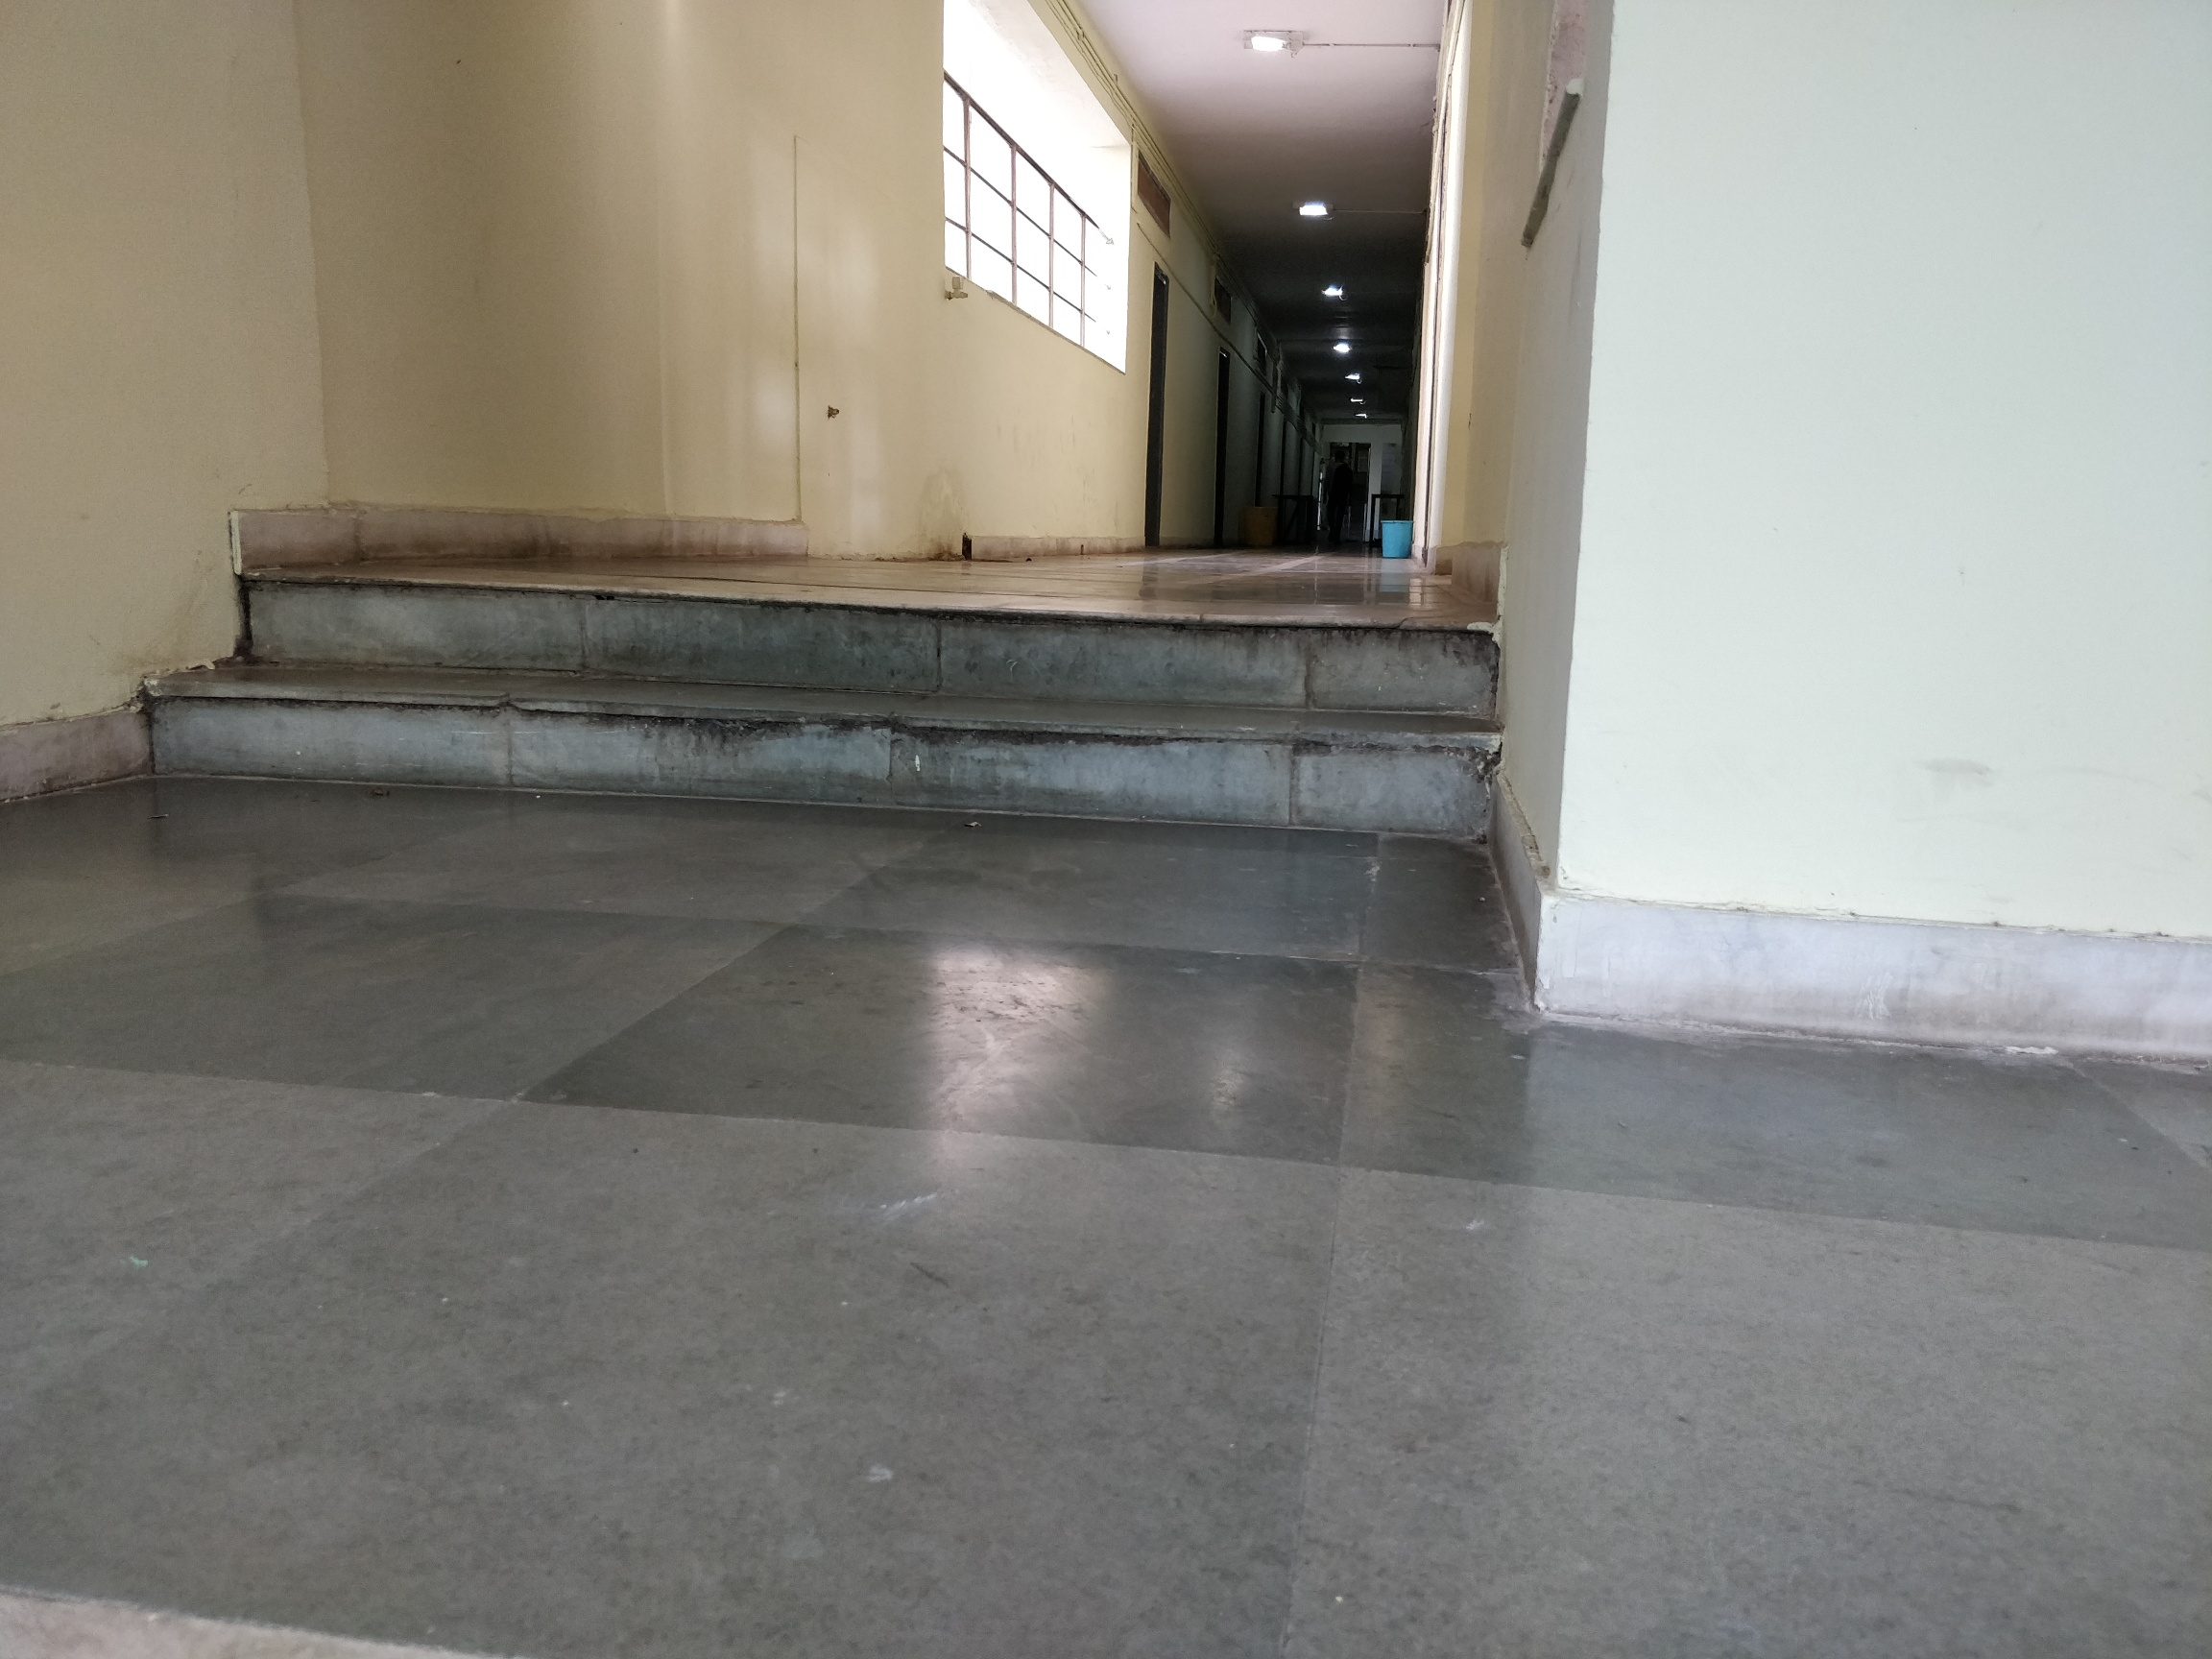stairs_up: (136, 565, 1503, 864)
